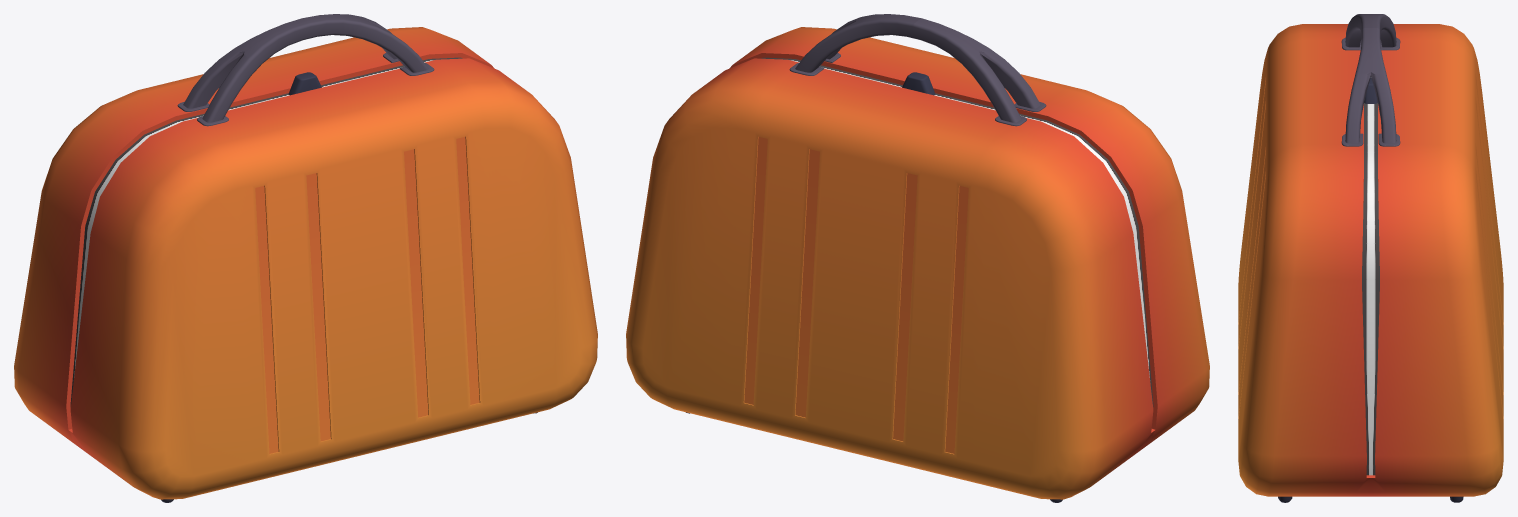
The model's file is Baggage_3_Orange.fbx.
The picture shows the model from 3 angles, left to right: view 1: azimuth 30°, elevation 25°; view 2: azimuth 150°, elevation 25°; view 3: azimuth 270°, elevation 25°; orthographic projection. The views are drawn at different scales.
Visible parts, largest first — view 1: Baggage_3_Orange; view 2: Baggage_3_Orange; view 3: Baggage_3_Orange.
Boxes of the visible parts, x1,y1,x2,y2 form: Baggage_3_Orange: (14, 14, 597, 502); Baggage_3_Orange: (626, 14, 1209, 502); Baggage_3_Orange: (1238, 14, 1503, 502).
Size of the model in its own units: 60.85 by 49.27 by 30.64.
